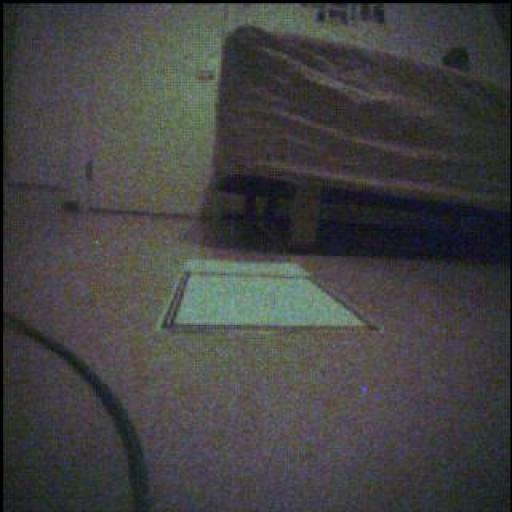pad: (161, 260, 374, 332)
